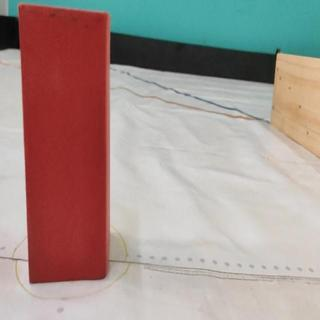redbox: (20, 3, 109, 285)
